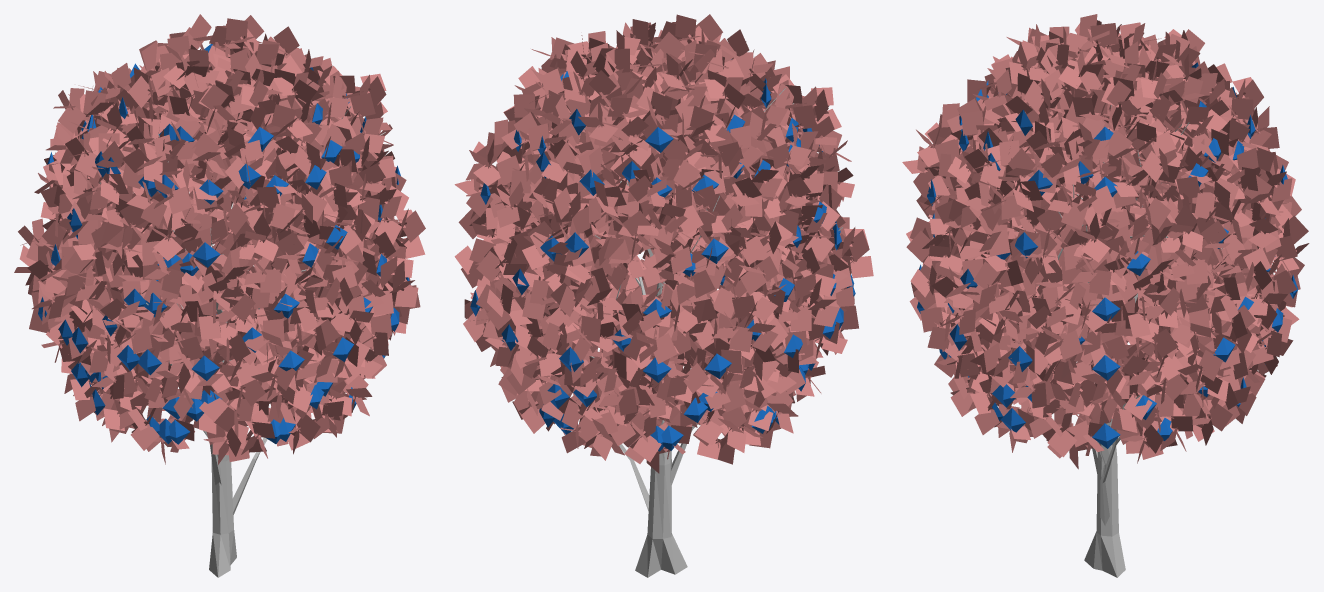
Rendered from SM_pear_tree.fbx.
3 renders of one model, left to right at view 1: azimuth 30°, elevation 25°; view 2: azimuth 150°, elevation 25°; view 3: azimuth 270°, elevation 25°, orthographic.
Parts seen in each view (by area): view 1: pear; view 2: pear; view 3: pear.
Part boxes in pixels (box(x1,y1,x2,y2)): pear: box(14, 14, 425, 577); pear: box(454, 14, 873, 577); pear: box(902, 14, 1309, 577).
Size of the model in its own units: 364 by 523 by 360.
